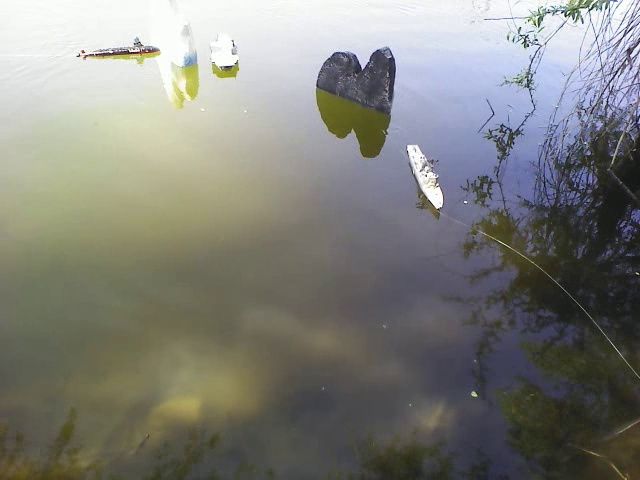aircraft_carrier: (209, 29, 241, 75)
iceberg: (155, 1, 199, 68)
rock: (314, 40, 396, 115)
submarine: (79, 44, 158, 60)
warship: (403, 145, 449, 210)
